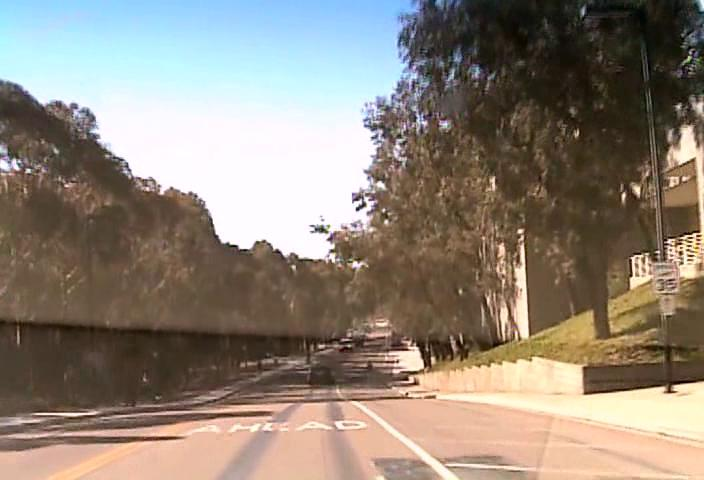speedLimit35: (651, 261, 680, 294)
